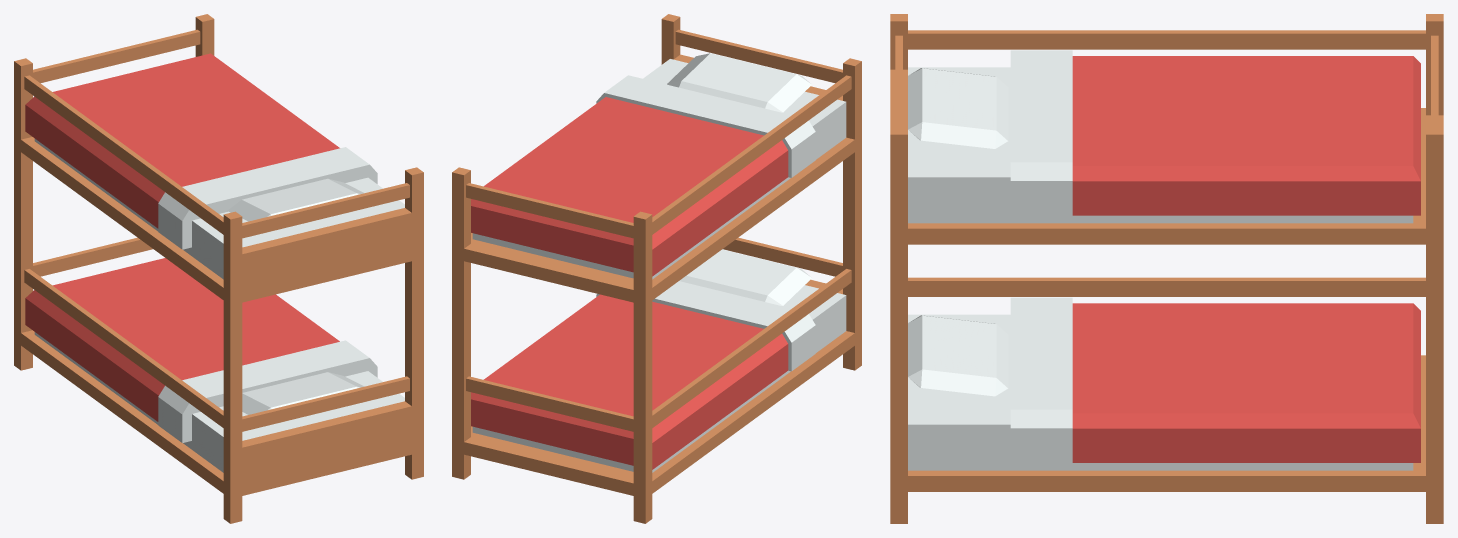
File: bedBunk.obj
The picture shows the model from 3 angles, left to right: view 1: azimuth 30°, elevation 25°; view 2: azimuth 150°, elevation 25°; view 3: azimuth 270°, elevation 25°; orthographic projection. The views are drawn at different scales.
Parts seen in each view (by area): view 1: bedBunk, coverTop, coverBottom, pillowTop, pillowBottom; view 2: bedBunk, coverTop, coverBottom, pillowTop, pillowBottom; view 3: bedBunk, coverTop, coverBottom, pillowBottom, pillowTop.
Part boxes in pixels (bbox=[...]): bedBunk: bbox=[14, 14, 423, 523]; coverTop: bbox=[25, 53, 377, 249]; coverBottom: bbox=[25, 258, 377, 442]; pillowTop: bbox=[227, 178, 364, 221]; pillowBottom: bbox=[242, 372, 364, 414]; bedBunk: bbox=[452, 14, 861, 523]; coverTop: bbox=[471, 75, 815, 276]; coverBottom: bbox=[471, 281, 815, 469]; pillowTop: bbox=[667, 53, 811, 112]; pillowBottom: bbox=[679, 249, 811, 305]; bedBunk: bbox=[890, 14, 1443, 523]; coverTop: bbox=[1010, 50, 1420, 217]; coverBottom: bbox=[1010, 297, 1420, 464]; pillowBottom: bbox=[908, 315, 1008, 396]; pillowTop: bbox=[908, 68, 1008, 148].
Bounding box in the file's own units: 0.571 × 0.85 × 1.1.
